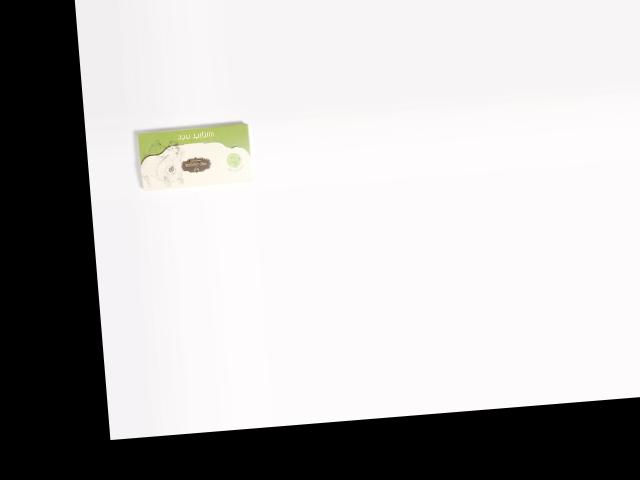chocolate: (135, 121, 254, 192)
